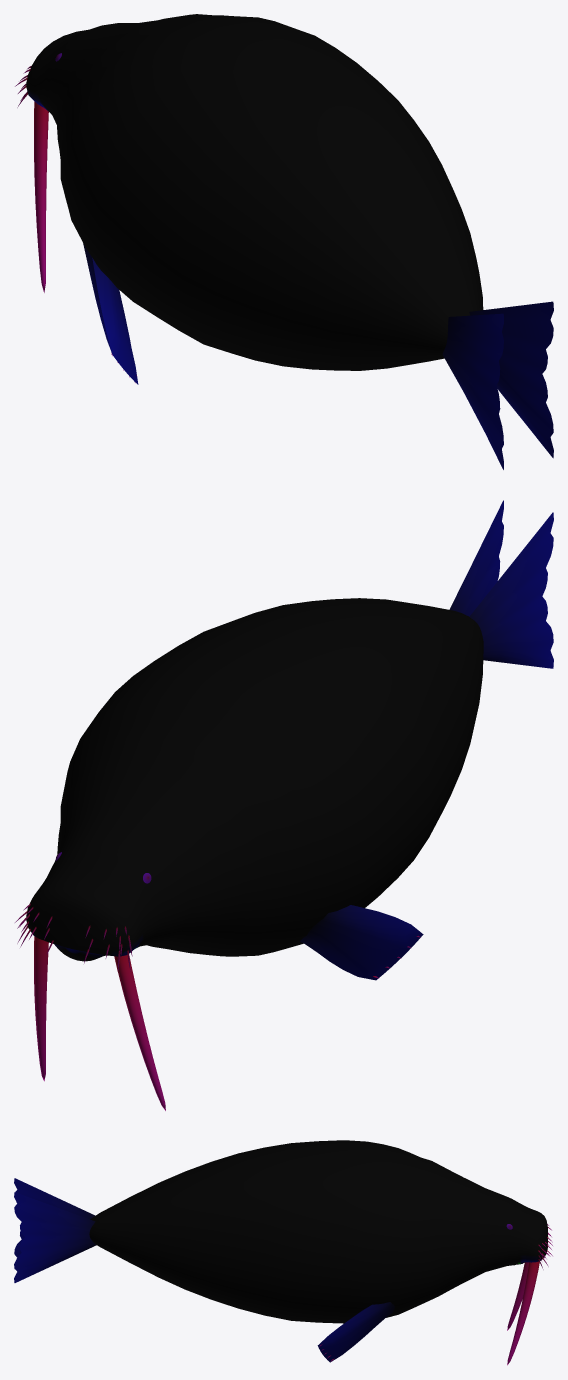
File: walrus_game.glb
3 renders of one model, top to bottom at view 1: azimuth 30°, elevation 25°; view 2: azimuth 150°, elevation 25°; view 3: azimuth 270°, elevation 25°, orthographic. The views are drawn at different scales.
Visible parts, largest first — view 1: walrus_game; view 2: walrus_game; view 3: walrus_game.
Boxes of the visible parts, x1,y1,x2,y2 form: walrus_game: (15, 14, 553, 469); walrus_game: (15, 500, 553, 1110); walrus_game: (14, 1140, 552, 1365).
Size of the model in its own units: 1.17 by 1.22 by 3.02.
